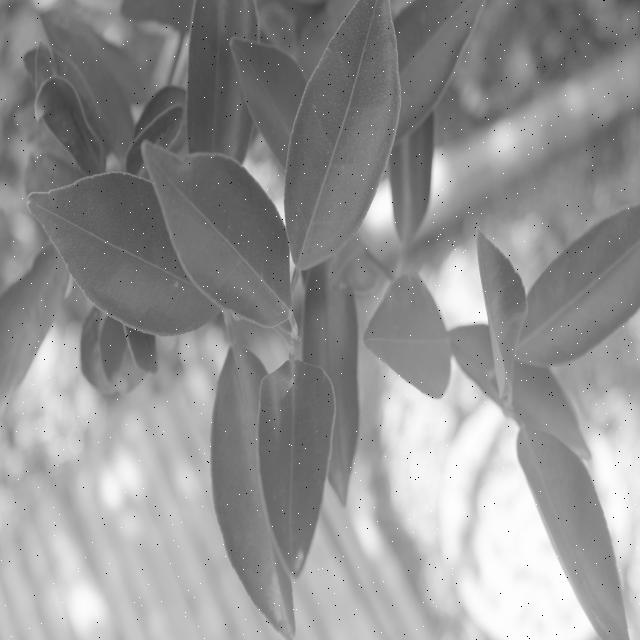healthy: (282, 5, 400, 263), (143, 137, 294, 331), (263, 365, 329, 562)
